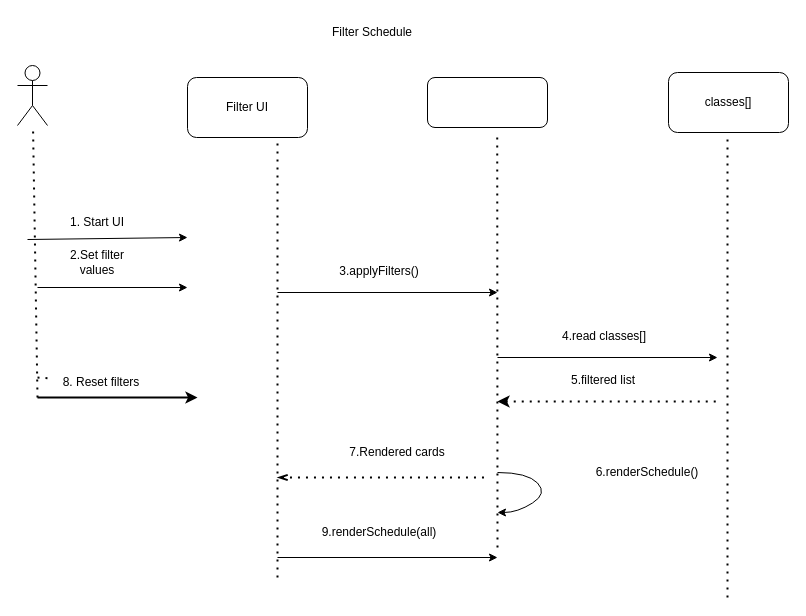
Image size: 806x616. Some labels were removed from this diagram. Each missing label, with the centre of its shape:
Schedule: pixel 487 102
User: pixel 32 95
